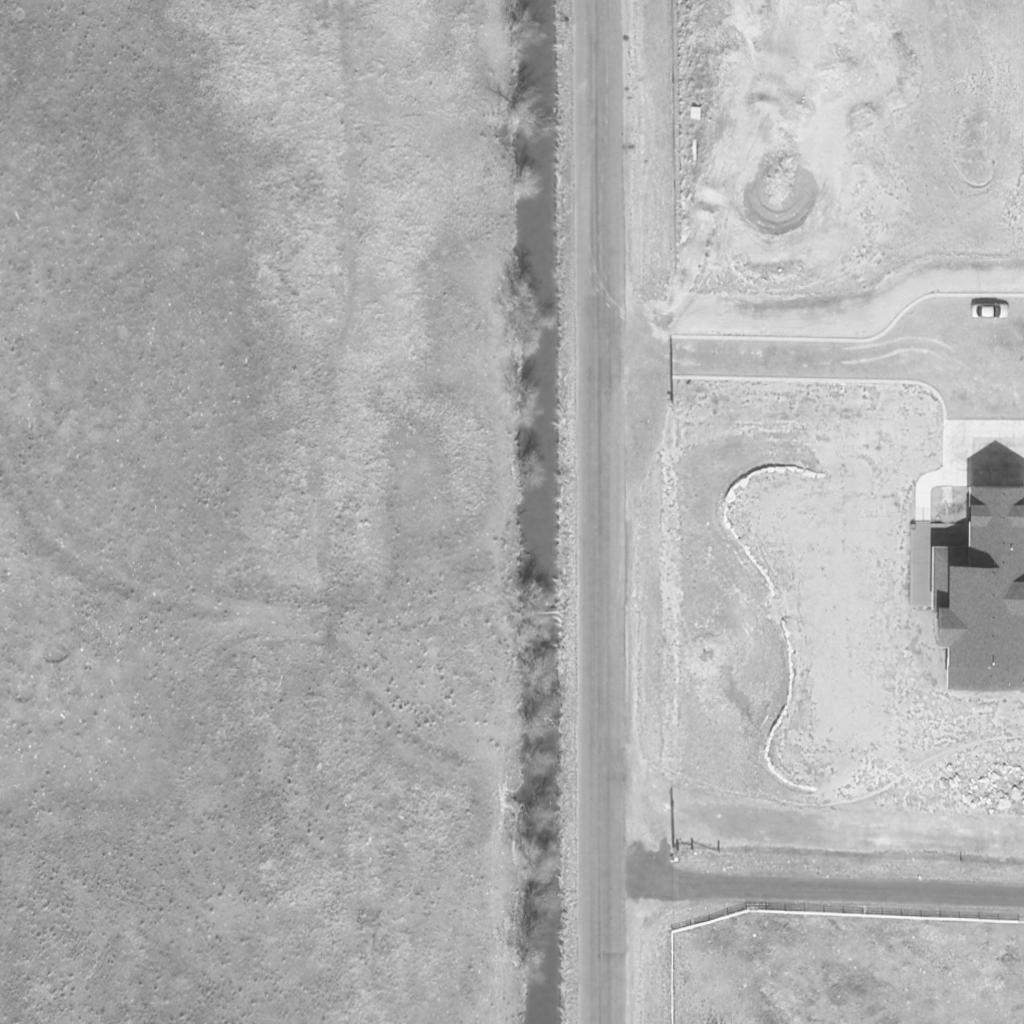vehicle: (971, 303, 1011, 319)
